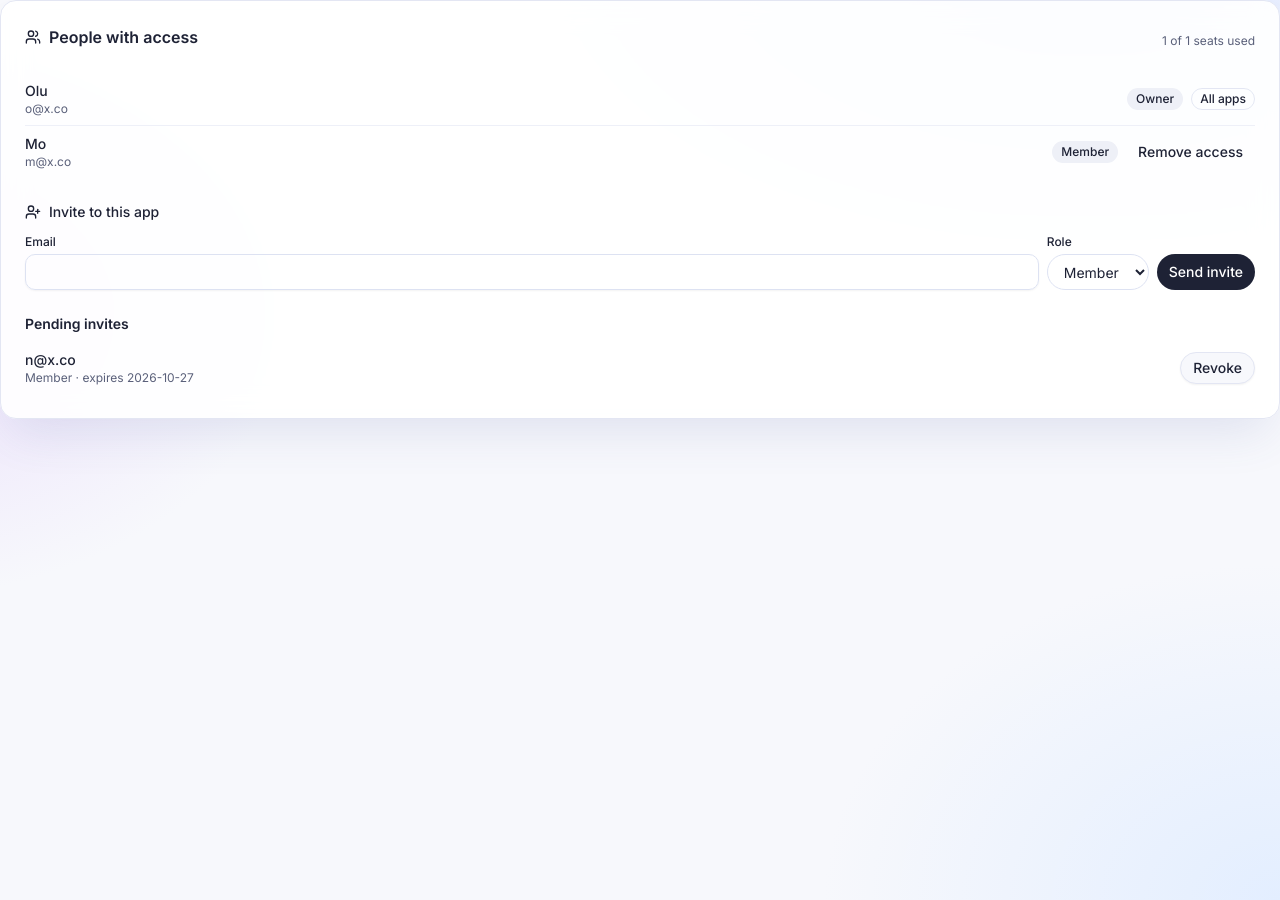
Scenario: People › invites to this app, then reloads the list
Type " p@x.co " into the field labelled "Email" at [532, 272], box x1=25 y1=254 x2=1039 y2=290
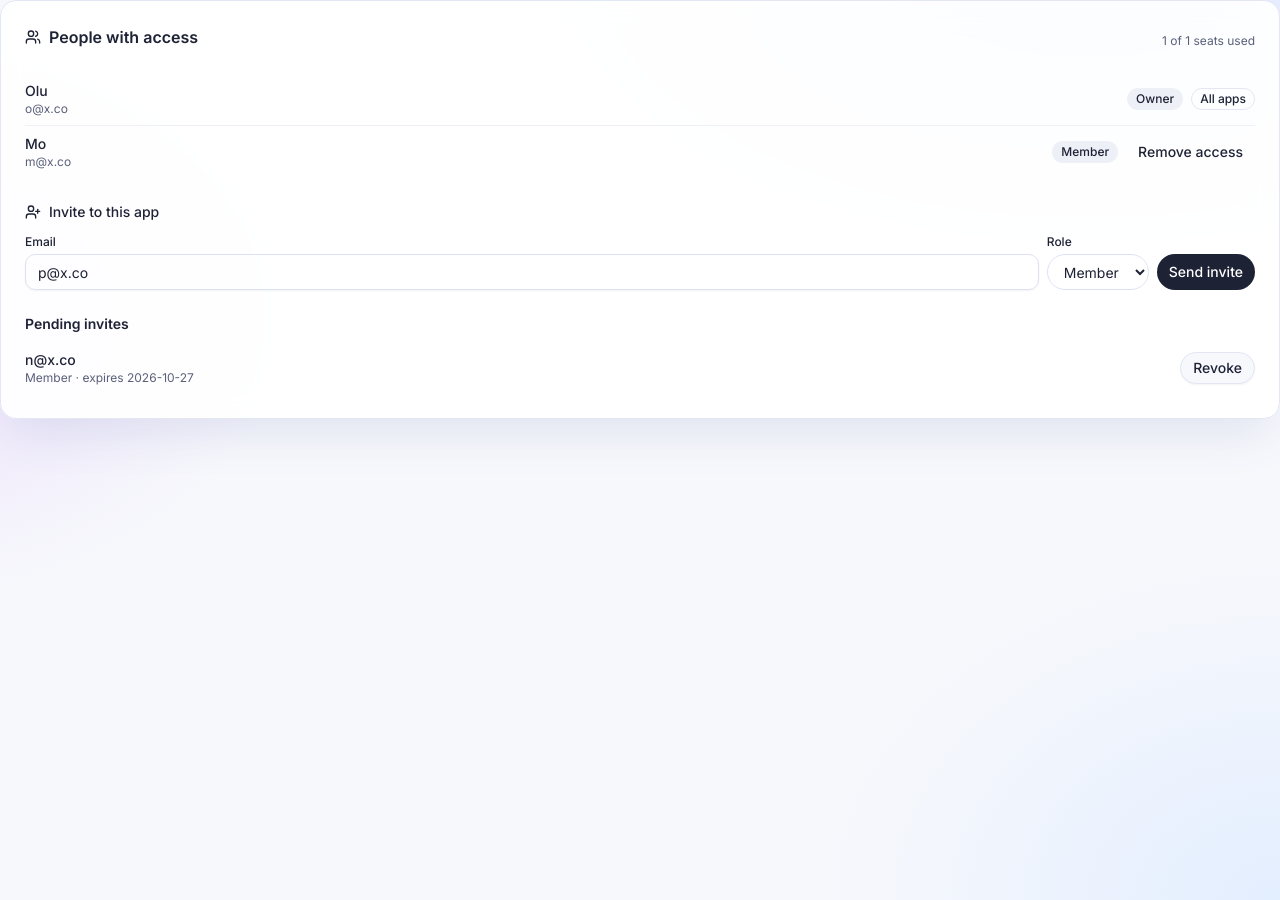
Click the button "Send invite" at [1206, 272], box x1=1157 y1=254 x2=1255 y2=290
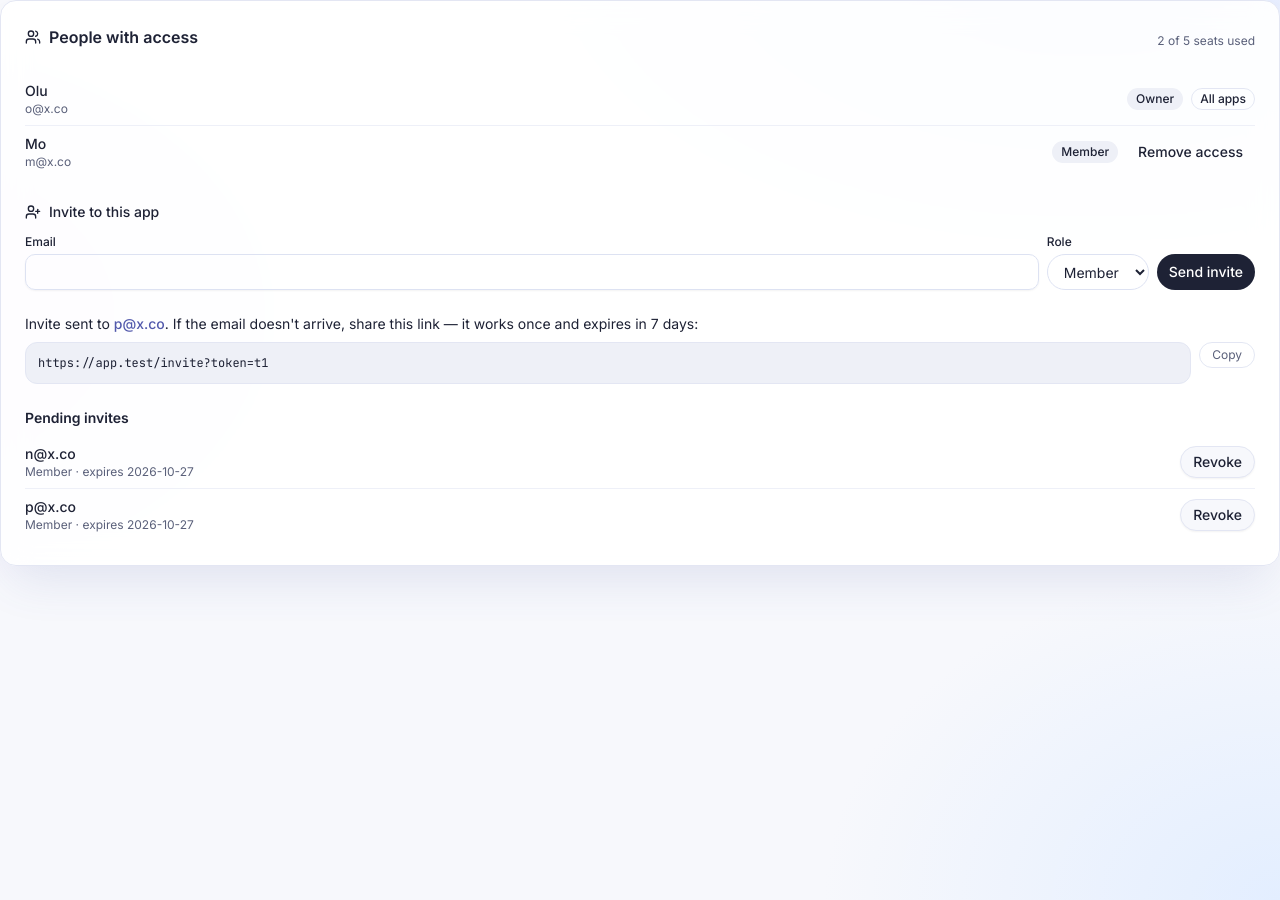
Result: the message shows "p@x.co" at x1=114 y1=315 x2=165 y2=332
Result: the text "https://app.test/invite?token=t1" is shown at x1=38 y1=355 x2=268 y2=371
Result: the button named "Copy the invite link" is shown at x1=1199 y1=342 x2=1255 y2=368
